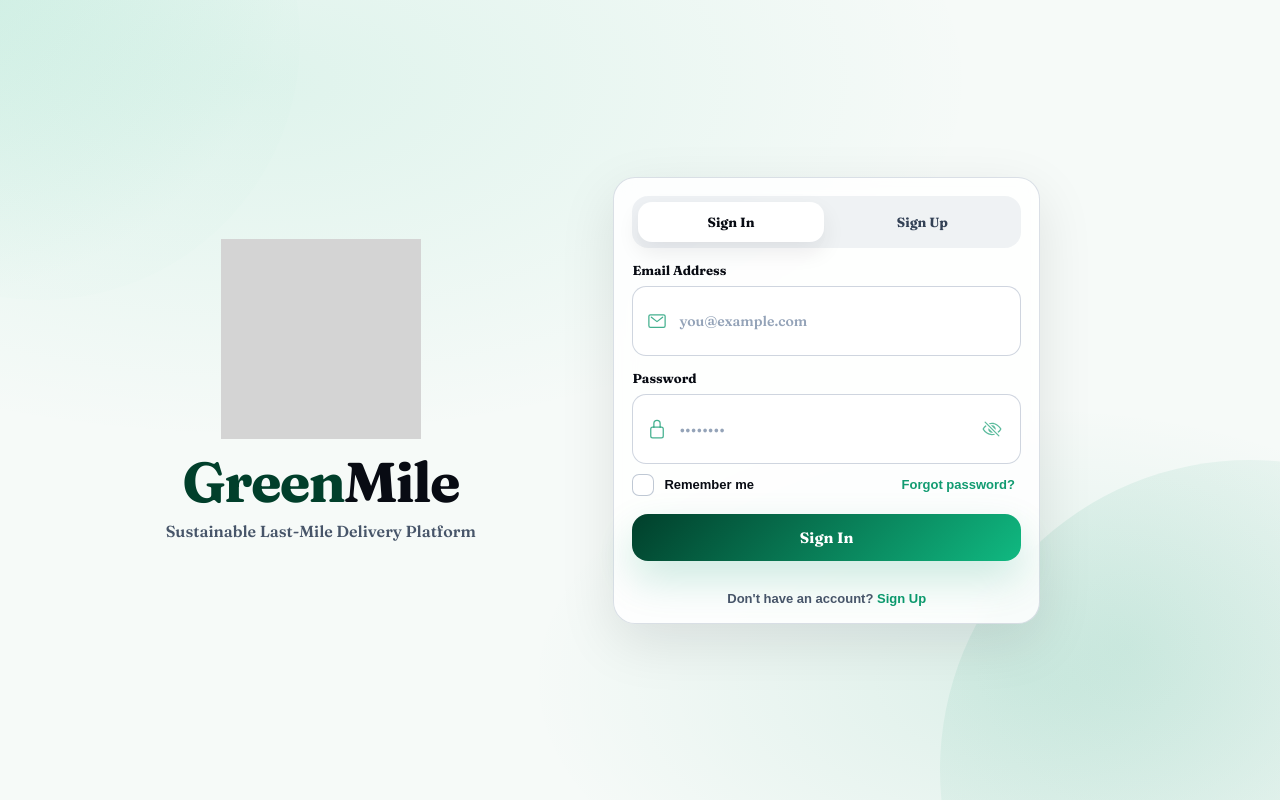
Test case: Tab switching › switches to Sign Up view when Sign Up tab clicked
Click the button "Sign Up": [922, 222] box [830,202,1015,242]
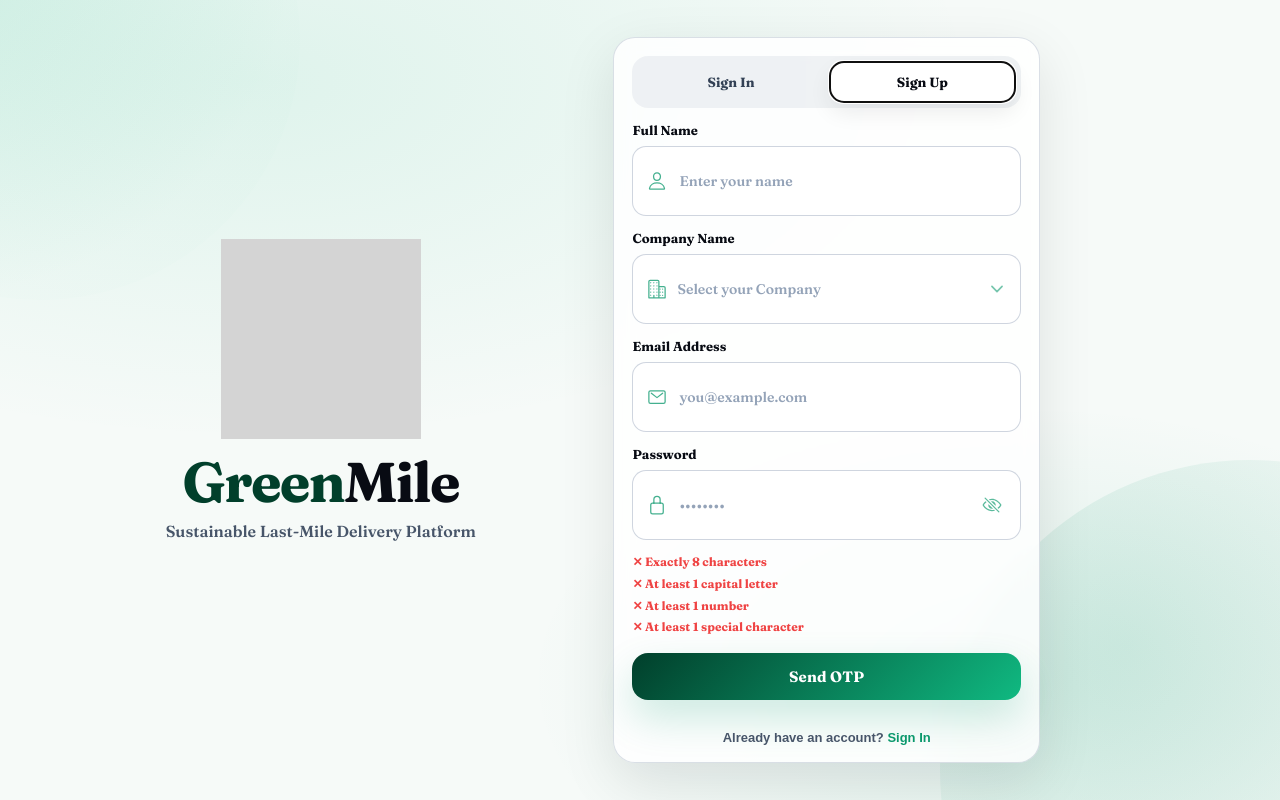
Expected: the field with placeholder "Enter your name" is shown, [677,171,1006,191]
Expected: the text "Company Name" is shown, [632,230,735,246]
